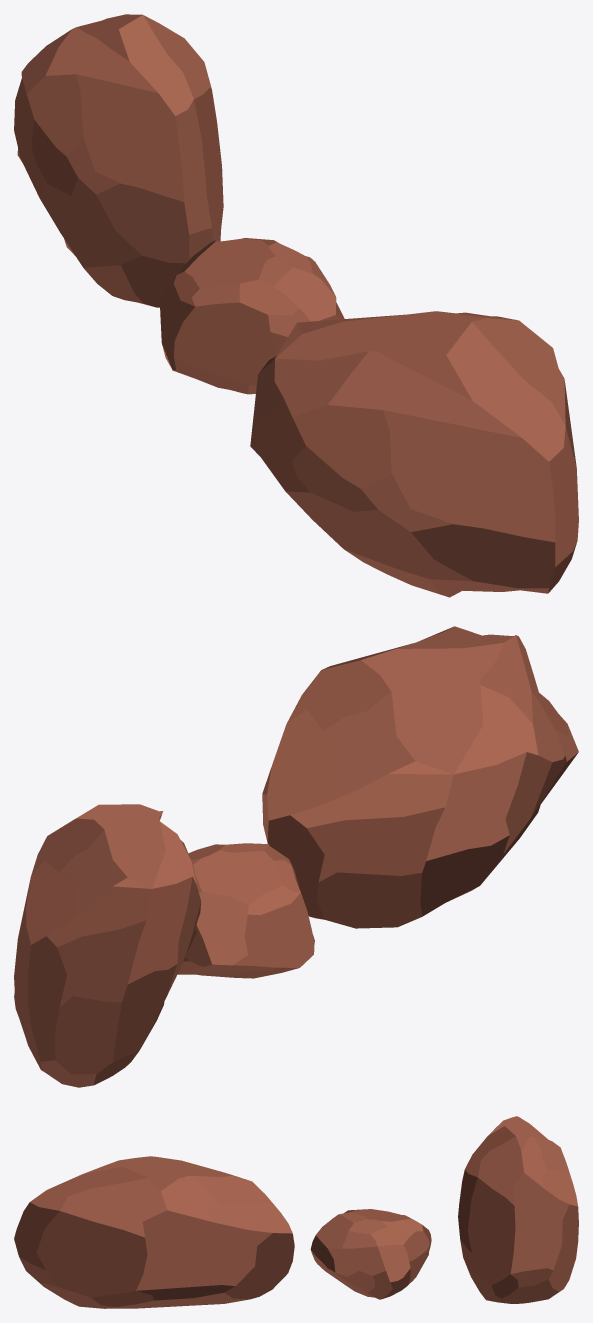
File: PEDRAS.fbx
The picture shows the model from 3 angles, top to bottom: view 1: azimuth 30°, elevation 25°; view 2: azimuth 150°, elevation 25°; view 3: azimuth 270°, elevation 25°; orthographic projection. The views are drawn at different scales.
Visible parts, largest first — view 1: Sphere.002, Sphere.001, Sphere; view 2: Sphere.002, Sphere.001, Sphere; view 3: Sphere.002, Sphere.001, Sphere.
Boxes of the visible parts, x1=… form: Sphere.002: x1=250, y1=311, x2=578, y2=597; Sphere.001: x1=14, y1=14, x2=223, y2=307; Sphere: x1=160, y1=238, x2=344, y2=394; Sphere.002: x1=262, y1=626, x2=578, y2=928; Sphere.001: x1=14, y1=804, x2=200, y2=1087; Sphere: x1=177, y1=843, x2=314, y2=978; Sphere.002: x1=14, y1=1156, x2=294, y2=1308; Sphere.001: x1=458, y1=1116, x2=578, y2=1303; Sphere: x1=310, y1=1209, x2=431, y2=1299.
Size of the model in its own units: 239 by 284 by 804.
